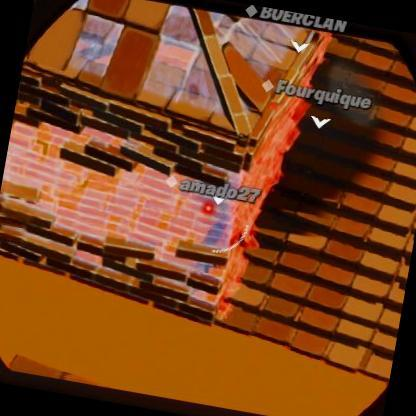person: (192, 193, 230, 280)
